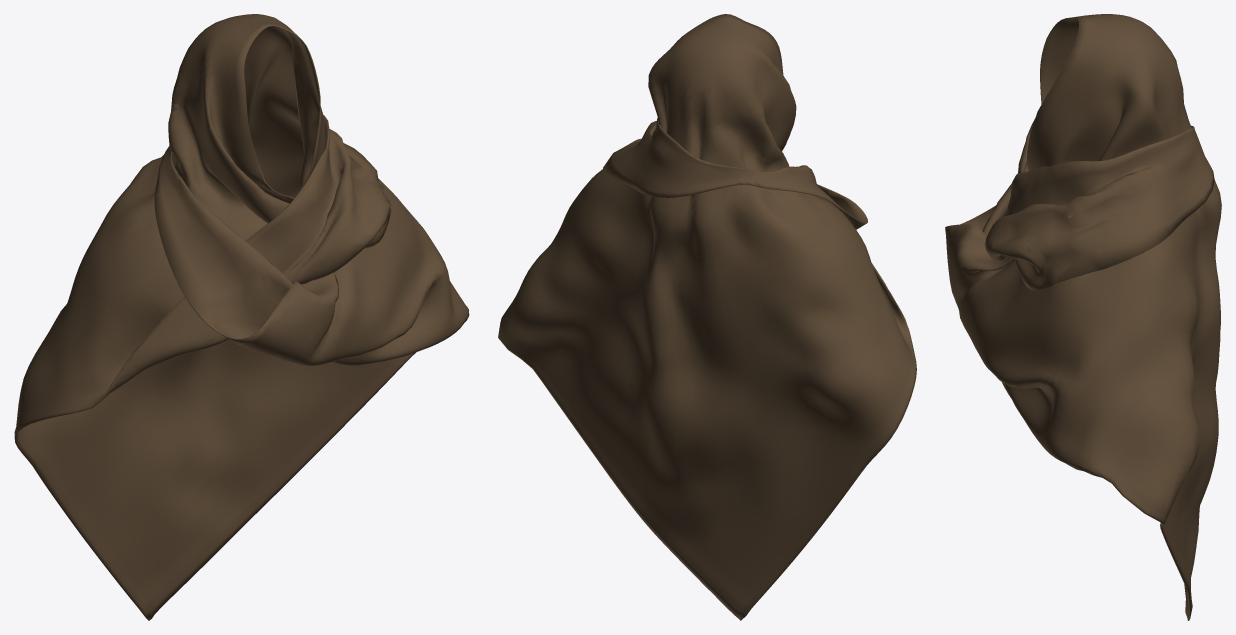
The model's file is headwear-dune-01.glb.
3 renders of one model, left to right at view 1: azimuth 30°, elevation 25°; view 2: azimuth 150°, elevation 25°; view 3: azimuth 270°, elevation 25°, orthographic. The views are drawn at different scales.
Visible parts, largest first — view 1: Wolf3D_Headwear.002; view 2: Wolf3D_Headwear.002; view 3: Wolf3D_Headwear.002.
Part boxes in pixels (x1=…): Wolf3D_Headwear.002: x1=14, y1=14, x2=469, y2=620; Wolf3D_Headwear.002: x1=498, y1=14, x2=916, y2=620; Wolf3D_Headwear.002: x1=945, y1=14, x2=1221, y2=620.
Bounding box in the file's own units: 0.8632 × 1.15 × 0.454.
Materials: 1 (1 with a texture image).
